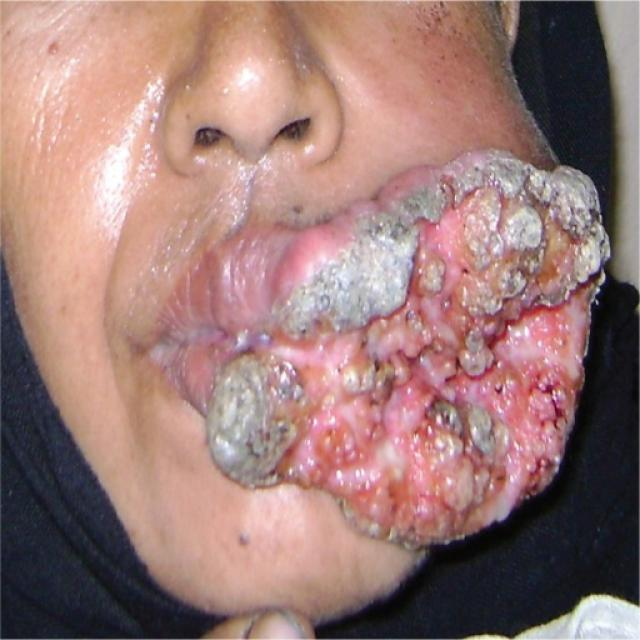cancer-detection: (179, 152, 612, 549)
processing_area: (114, 145, 618, 560)
